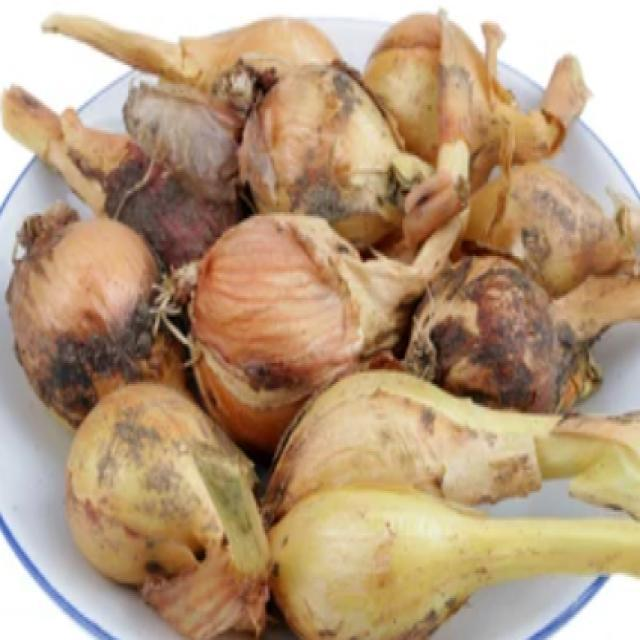rotten: (442, 292, 556, 403), (46, 319, 170, 409), (99, 130, 190, 241)
sprouting: (68, 4, 180, 86), (508, 69, 590, 168)
